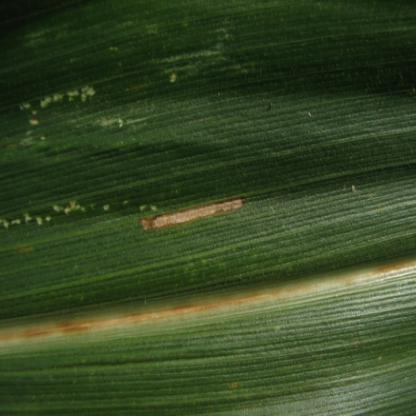corn gray leaf spot: (46, 97, 415, 407)
